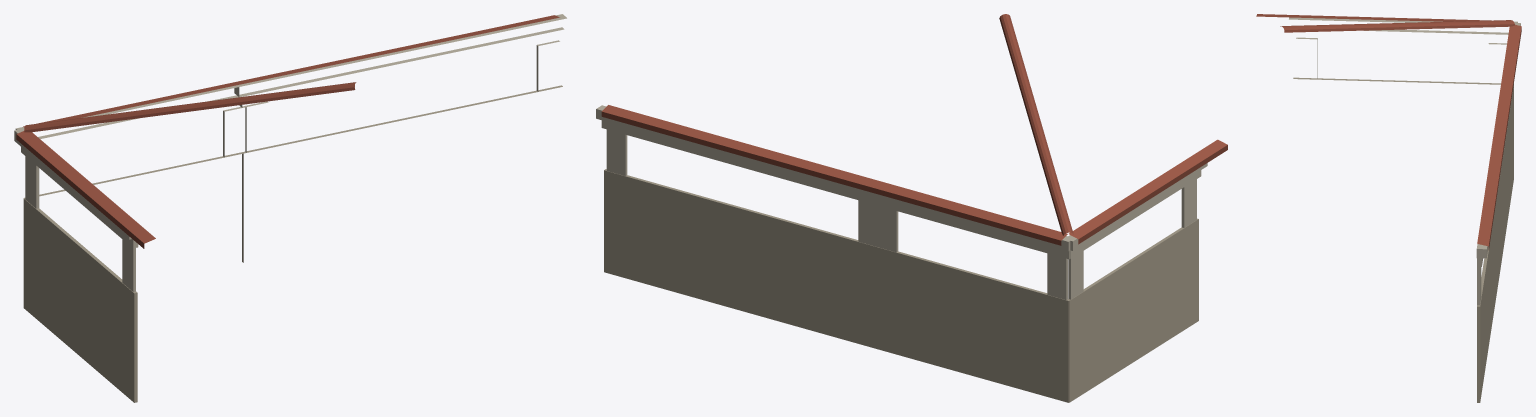
The picture shows the model from 3 angles, left to right: view 1: azimuth 30°, elevation 25°; view 2: azimuth 150°, elevation 25°; view 3: azimuth 270°, elevation 25°; orthographic projection. The views are drawn at different scales.
Parts seen in each view (by area): view 1: detail; view 2: detail; view 3: detail.
Boxes of the visible parts, <box> form: detail: <box>14,14,566,402</box>; detail: <box>596,14,1227,402</box>; detail: <box>1256,14,1521,402</box>.
Bounding box in the file's own units: 15.4 × 7.32 × 7.34.
